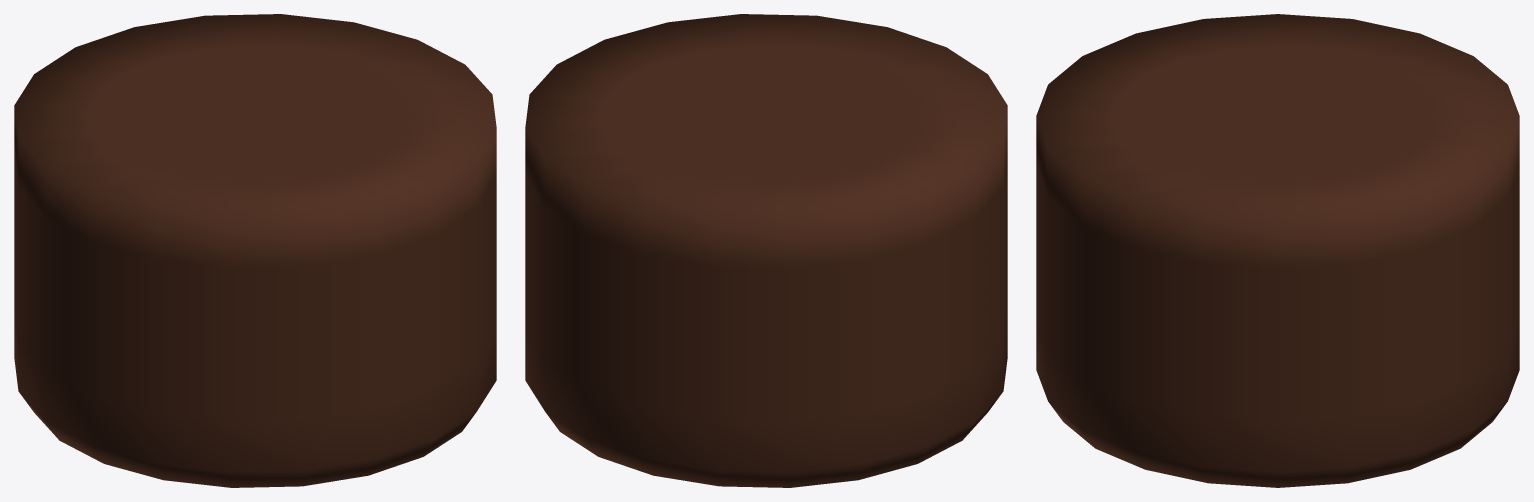
Rendered from CloudTank.obj.
3 views of the same model, side by side, from view 1: azimuth 30°, elevation 25°; view 2: azimuth 150°, elevation 25°; view 3: azimuth 270°, elevation 25° (orthographic).
Parts seen in each view (by area): view 1: SpewerTank1 CloudSpewer1 CloudMaker1 IslandCloudFactory1 Archipe; view 2: SpewerTank1 CloudSpewer1 CloudMaker1 IslandCloudFactory1 Archipe; view 3: SpewerTank1 CloudSpewer1 CloudMaker1 IslandCloudFactory1 Archipe.
Boxes of the visible parts, x1,y1,x2,y2 form: SpewerTank1 CloudSpewer1 CloudMaker1 IslandCloudFactory1 Archipe: (14,14,496,487); SpewerTank1 CloudSpewer1 CloudMaker1 IslandCloudFactory1 Archipe: (525,14,1007,487); SpewerTank1 CloudSpewer1 CloudMaker1 IslandCloudFactory1 Archipe: (1036,14,1519,487).
Size of the model in its own units: 33.64 by 23.13 by 33.64.
